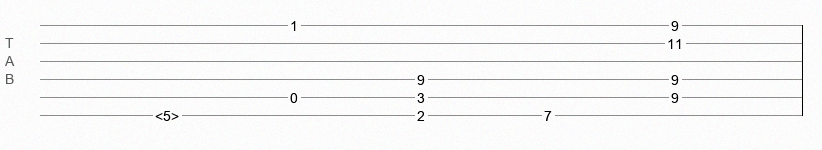0: (290, 90, 298, 100)
1: (290, 18, 298, 28)
11: (667, 36, 683, 46)
2: (417, 108, 425, 118)
3: (417, 90, 425, 100)
7: (544, 108, 552, 118)
9: (417, 72, 425, 82), (671, 72, 679, 82), (671, 18, 679, 28), (671, 90, 679, 100)
harmonic: (155, 108, 179, 118)
